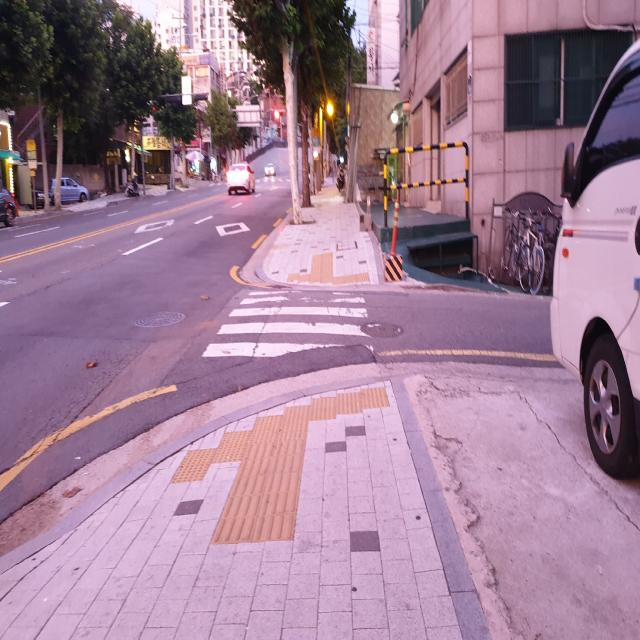횡단보도: (201, 284, 373, 356)
